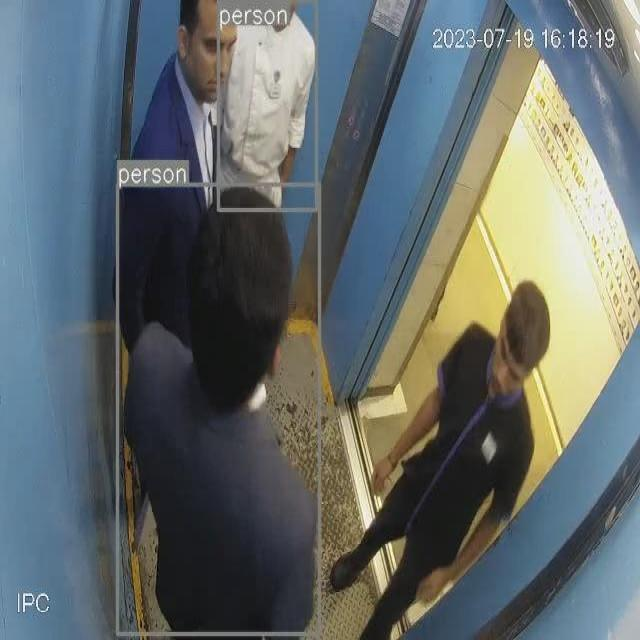person: (117, 186, 319, 634), (329, 273, 569, 640), (118, 0, 246, 319), (219, 0, 315, 209)
